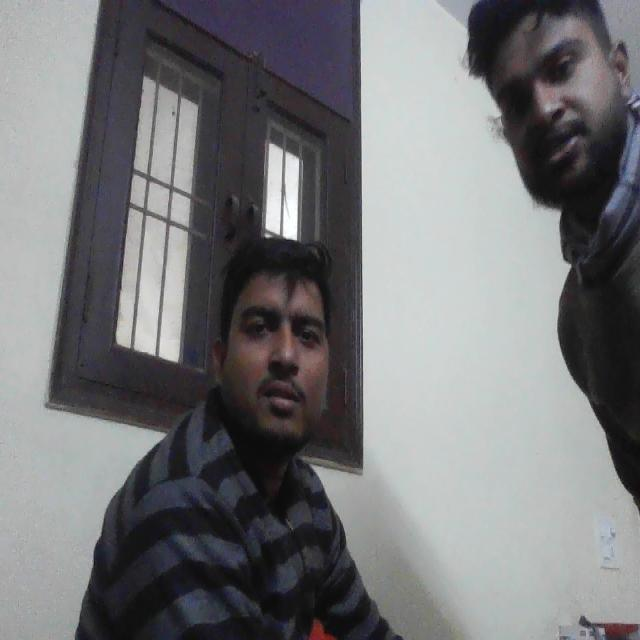real: (493, 0, 631, 260), (216, 222, 337, 450)
